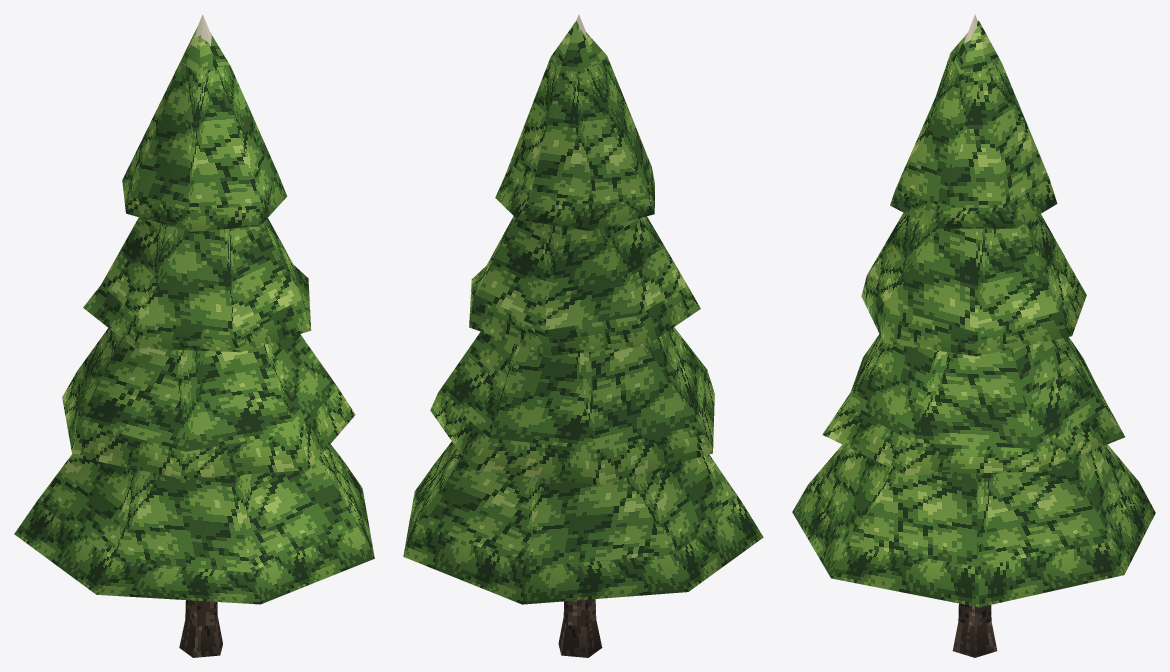
Rendered from mnat.pine__snowy.glb.
3 views of the same model, side by side, from view 1: azimuth 30°, elevation 25°; view 2: azimuth 150°, elevation 25°; view 3: azimuth 270°, elevation 25° (orthographic).
Parts seen in each view (by area): view 1: kit_tiers, kit_trunk; view 2: kit_tiers, kit_trunk; view 3: kit_tiers, kit_trunk.
Part boxes in pixels (box(x1,y1,x2,y2)): kit_tiers: box(14, 26, 374, 604); kit_trunk: box(179, 600, 222, 657); kit_tiers: box(403, 21, 763, 604); kit_trunk: box(558, 599, 602, 657); kit_tiers: box(792, 20, 1155, 607); kit_trunk: box(952, 603, 997, 657).
Size of the model in its own units: 4.52 by 8.82 by 4.59.
Materials: 3 (3 with a texture image).
